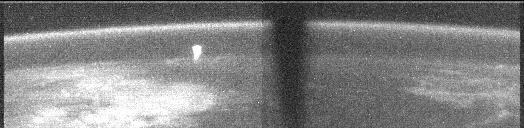positive: (190, 43, 202, 63)
